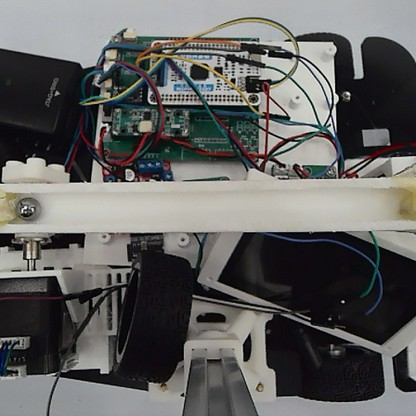ironball: (13, 195, 42, 221)
